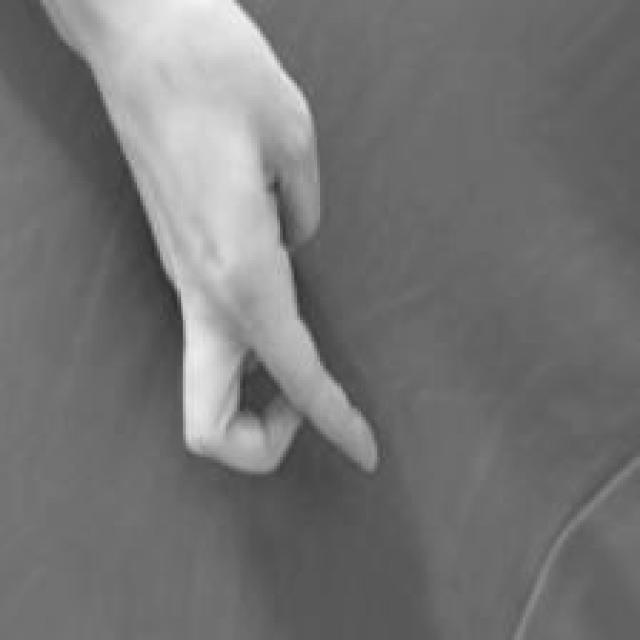P: (106, 91, 383, 483)
